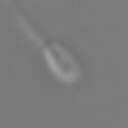normal: (4, 1, 48, 46)
